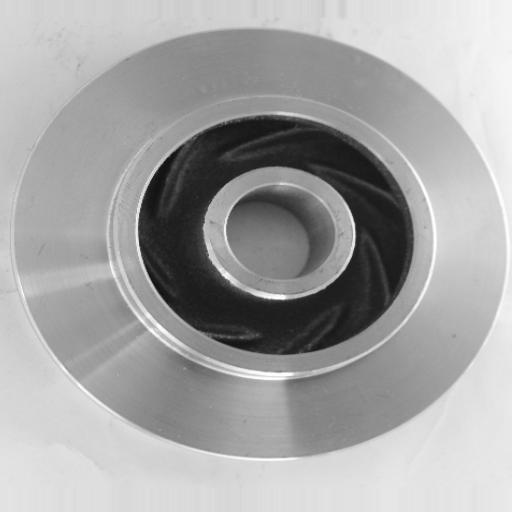polished_casting: (17, 29, 511, 461)
